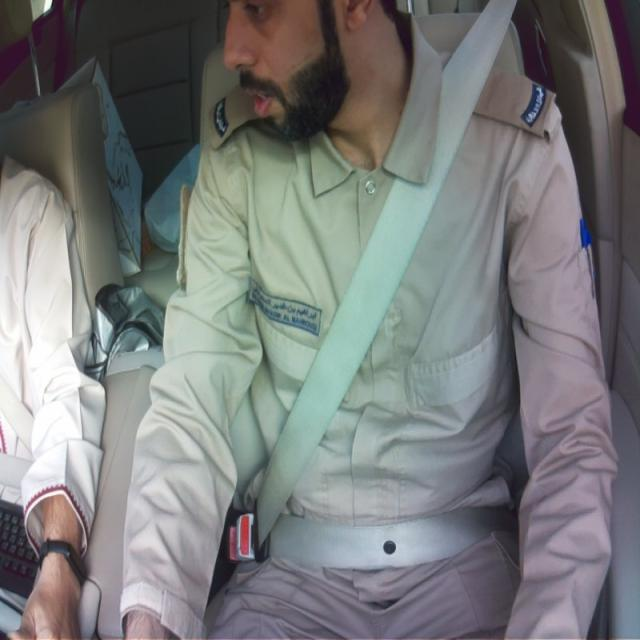seatbelt: (255, 0, 515, 569)
